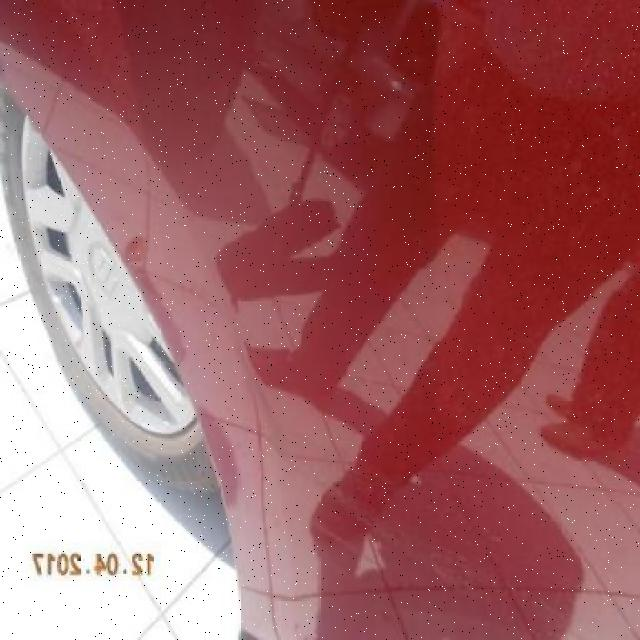damage: (218, 314, 588, 640)
